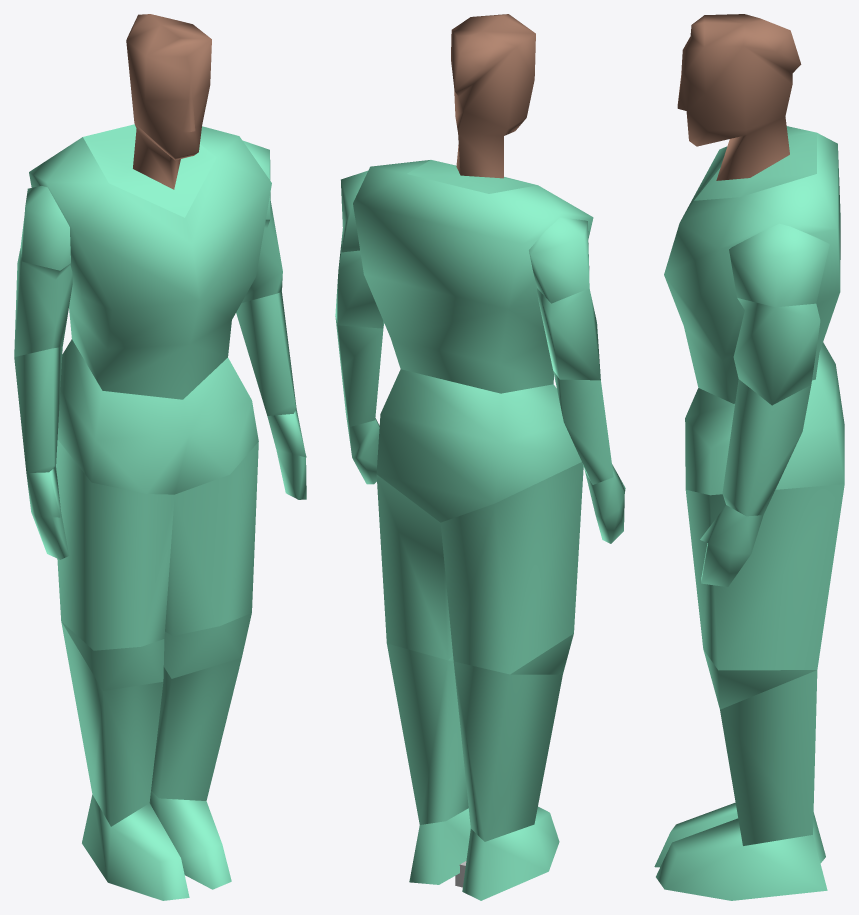
The model's file is gina.obj.
3 views of the same model, side by side, from view 1: azimuth 30°, elevation 25°; view 2: azimuth 150°, elevation 25°; view 3: azimuth 270°, elevation 25° (orthographic). The views are drawn at different scales.
Visible parts, largest first — view 1: DM_Gina_Head1; view 2: DM_Gina_Head1; view 3: DM_Gina_Head1.
Boxes of the visible parts, <box> form: DM_Gina_Head1: <box>14,14,306,900</box>; DM_Gina_Head1: <box>335,14,625,900</box>; DM_Gina_Head1: <box>654,14,844,900</box>.
Bounding box in the file's own units: 25.07 × 75.7 × 15.05.
